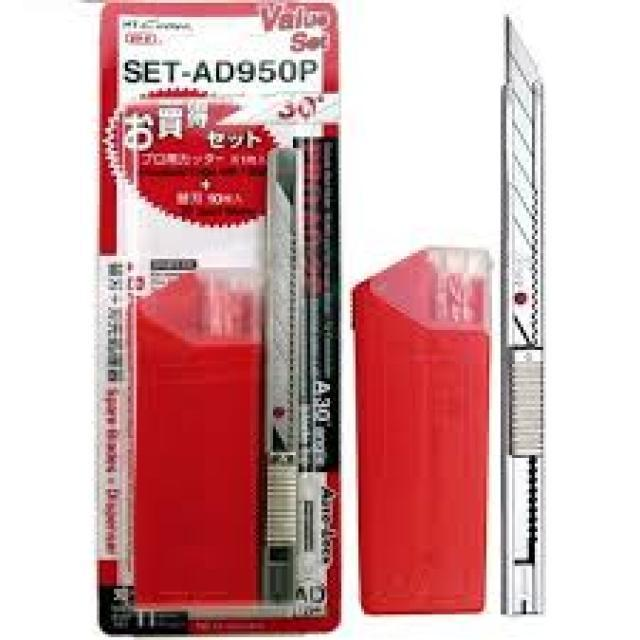cutter: (482, 8, 554, 616), (263, 136, 310, 612)
